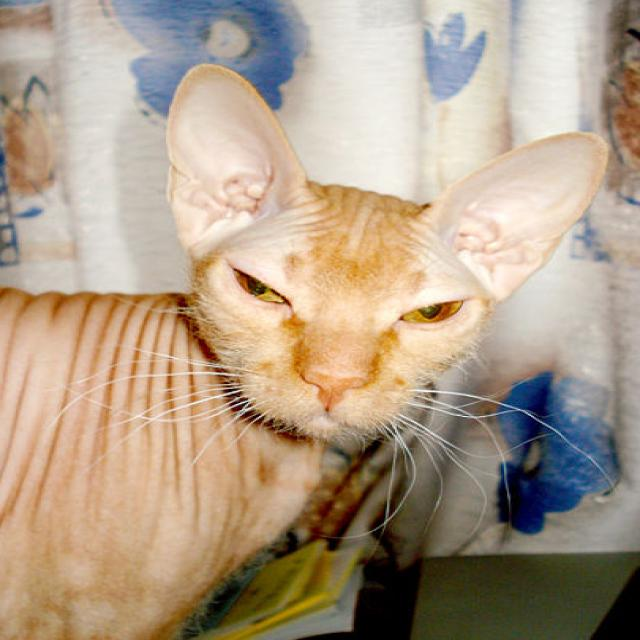Sphynx: (0, 59, 613, 640)
